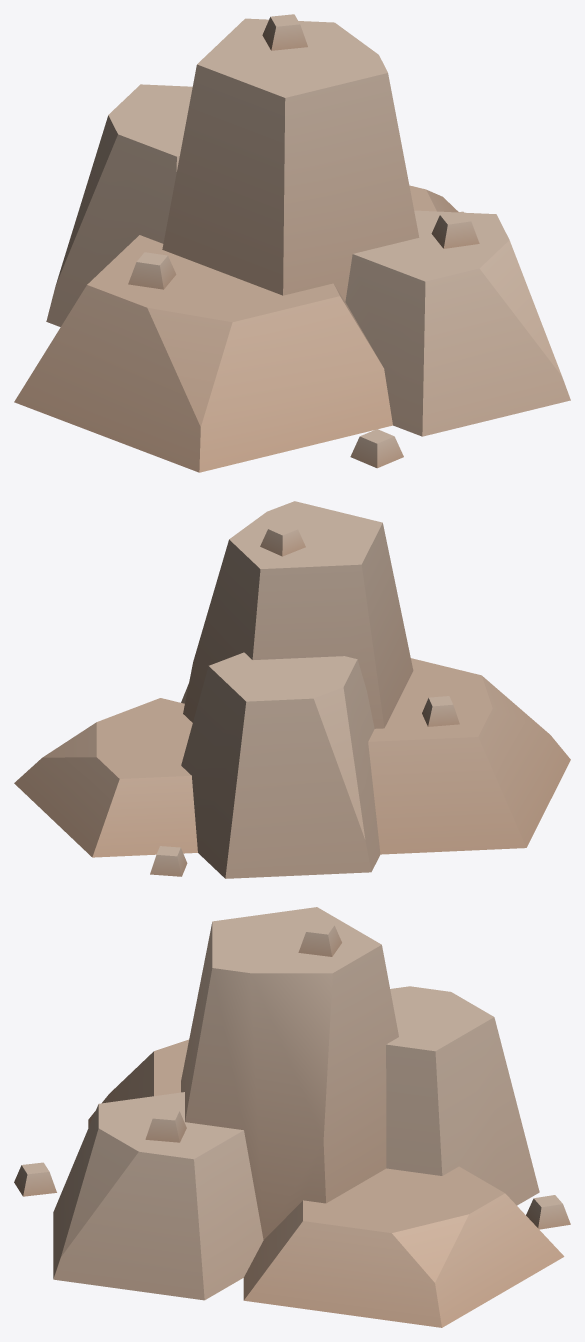
Rendered from rock-sand-b.glb.
The picture shows the model from 3 angles, top to bottom: view 1: azimuth 30°, elevation 25°; view 2: azimuth 150°, elevation 25°; view 3: azimuth 270°, elevation 25°; orthographic projection. The views are drawn at different scales.
Visible parts, largest first — view 1: rock-sand-b; view 2: rock-sand-b; view 3: rock-sand-b.
Boxes of the visible parts, x1,y1,x2,y2 form: rock-sand-b: (14, 14, 570, 472); rock-sand-b: (14, 501, 570, 878); rock-sand-b: (14, 907, 570, 1327).
Size of the model in its own units: 0.7991 by 0.4486 by 0.7895.
